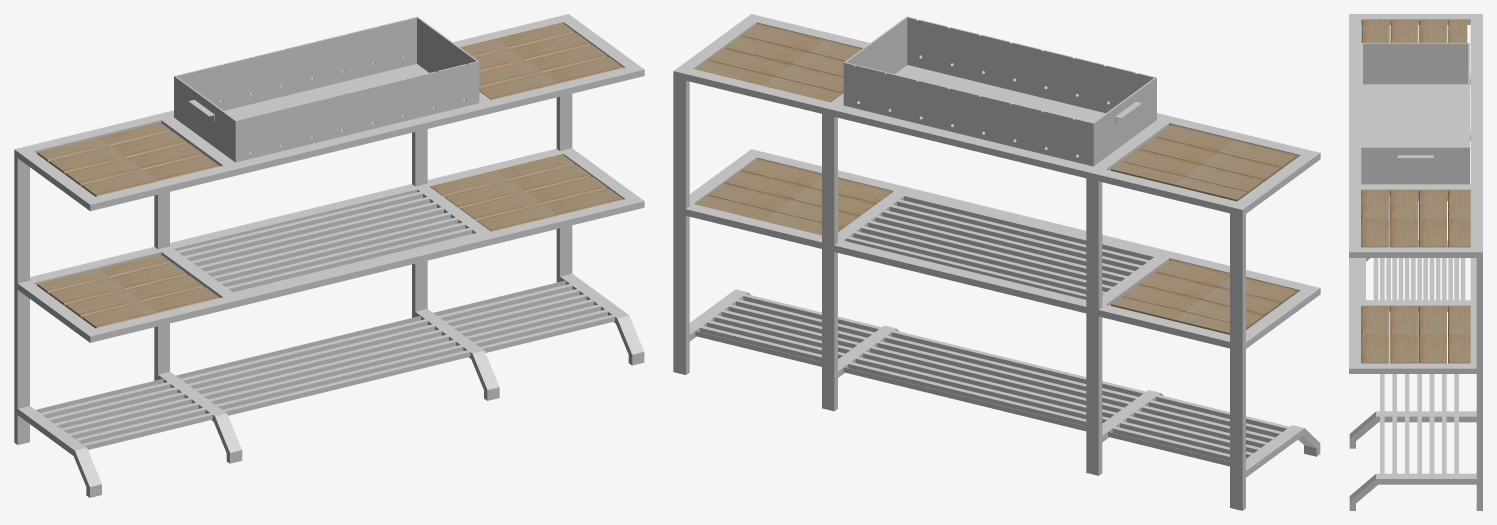
3 renders of one model, left to right at view 1: azimuth 30°, elevation 25°; view 2: azimuth 150°, elevation 25°; view 3: azimuth 270°, elevation 25°, orthographic. The views are drawn at different scales.
Visible parts, largest first — view 1: geometry-lumionModel, geometry-lumionModel.001; view 2: geometry-lumionModel, geometry-lumionModel.001; view 3: geometry-lumionModel, geometry-lumionModel.001.
Part boxes in pixels (x1,y1,x2,y2): geometry-lumionModel: [14, 14, 644, 497]; geometry-lumionModel.001: [37, 22, 623, 328]; geometry-lumionModel: [673, 14, 1320, 510]; geometry-lumionModel.001: [695, 23, 1298, 334]; geometry-lumionModel: [1349, 14, 1482, 510]; geometry-lumionModel.001: [1361, 20, 1470, 363].
Bounding box in the file's own units: 1.82 × 1.09 × 0.432.
Materials: 3 (1 with a texture image).
